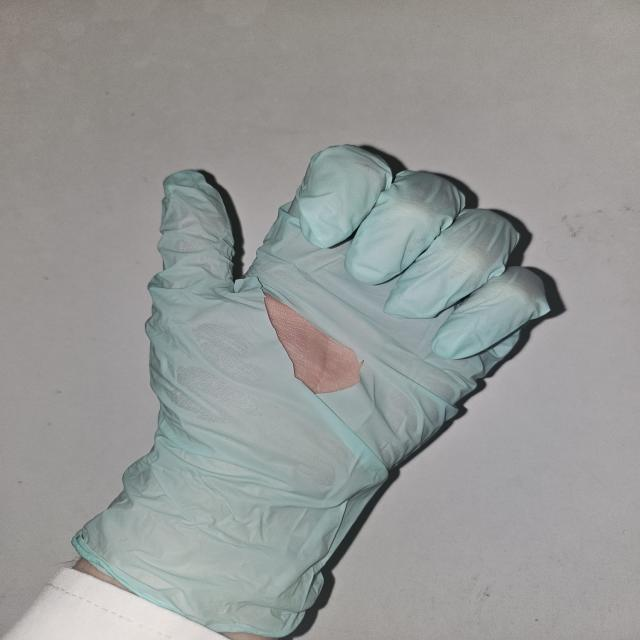gloves_damaged: (75, 136, 562, 633)
